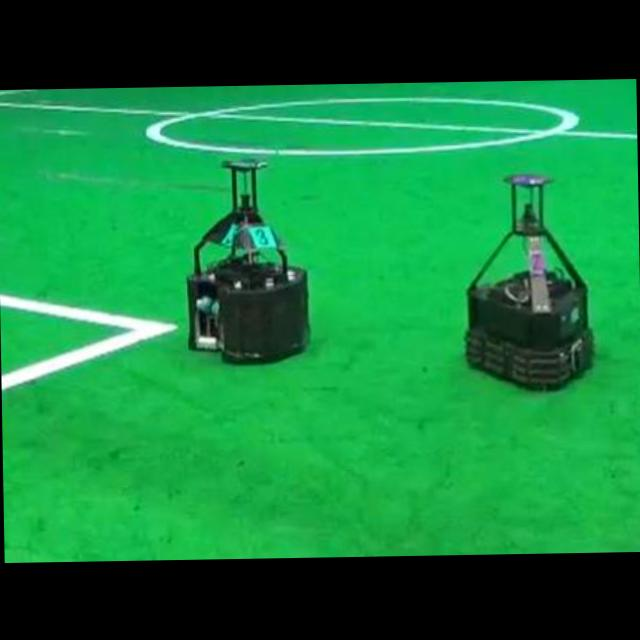robot: (466, 173, 591, 387), (186, 158, 307, 361)
